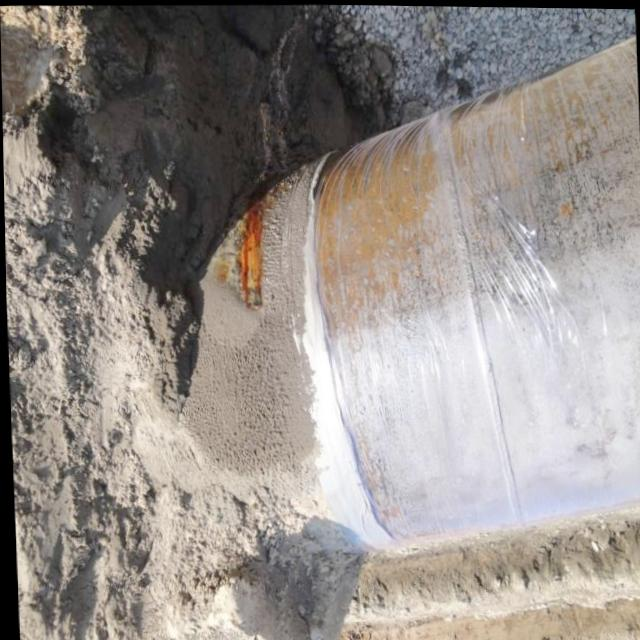leak: (240, 202, 263, 309)
